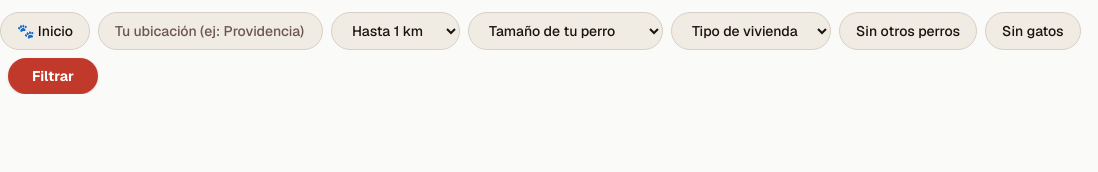
Test case: FiltrosCuidador › muestra un error y no navega si geocodificar devuelve null
This screenshot has width=1098, height=172.
Type "LugarFalso123" into the field with placeholder "Tu ubicación (ej: Providencia)" at (210, 31), box x1=98 y1=12 x2=323 y2=50
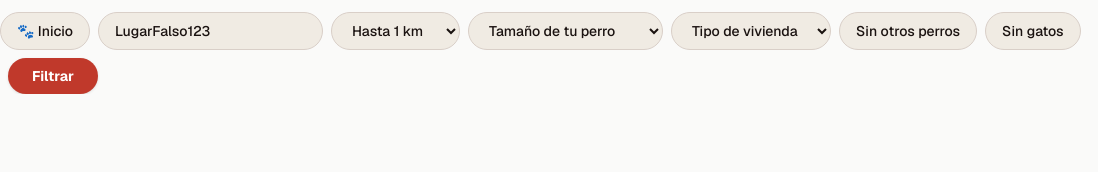
Click the button "Filtrar" at (53, 76), box x1=8 y1=58 x2=98 y2=94
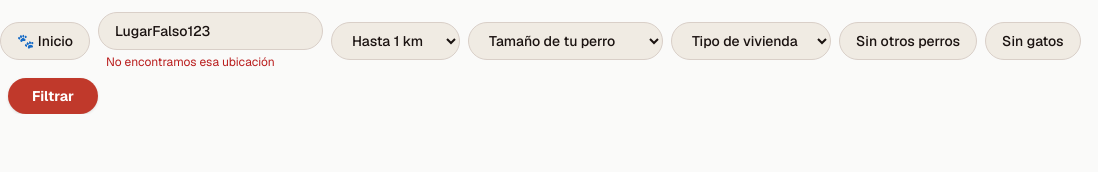
Now the text "No encontramos esa ubicación" is shown, box x1=106 y1=54 x2=275 y2=70
